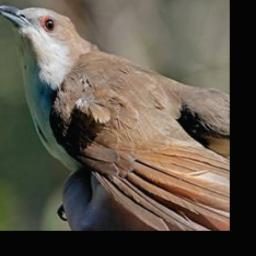Cuckoo: (0, 5, 230, 231)
